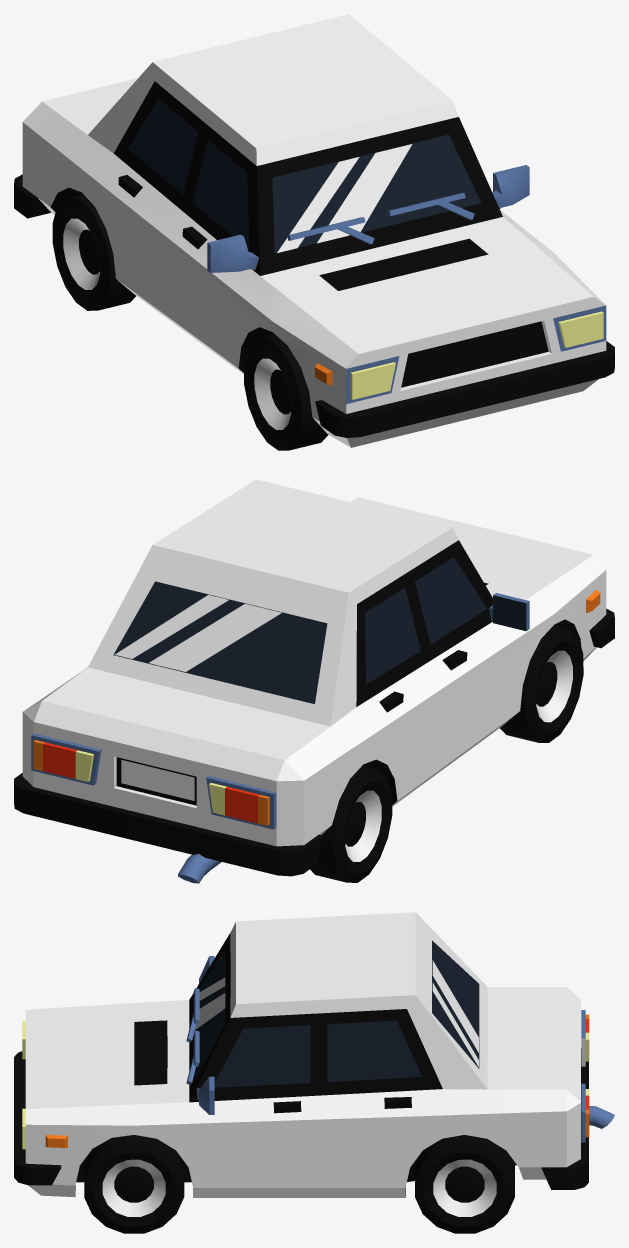
Rendered from Car_Sedan_White_v4.dae.
3 renders of one model, top to bottom at view 1: azimuth 30°, elevation 25°; view 2: azimuth 150°, elevation 25°; view 3: azimuth 270°, elevation 25°, orthographic. The views are drawn at different scales.
Visible parts, largest first — view 1: Model_Car_Sedan; view 2: Model_Car_Sedan; view 3: Model_Car_Sedan.
Boxes of the visible parts, x1=… form: Model_Car_Sedan: x1=14, y1=14, x2=614, y2=450; Model_Car_Sedan: x1=14, y1=479, x2=614, y2=883; Model_Car_Sedan: x1=14, y1=912, x2=614, y2=1233.
Size of the model in its own units: 10.26 by 7.83 by 19.34.
